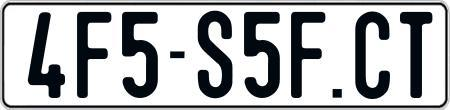4: (28, 11, 67, 97)
5: (122, 10, 162, 99), (244, 10, 280, 100)
C: (355, 9, 392, 96)
F: (75, 11, 114, 102), (288, 11, 325, 103)
S: (197, 8, 231, 101)
T: (397, 11, 435, 102)
